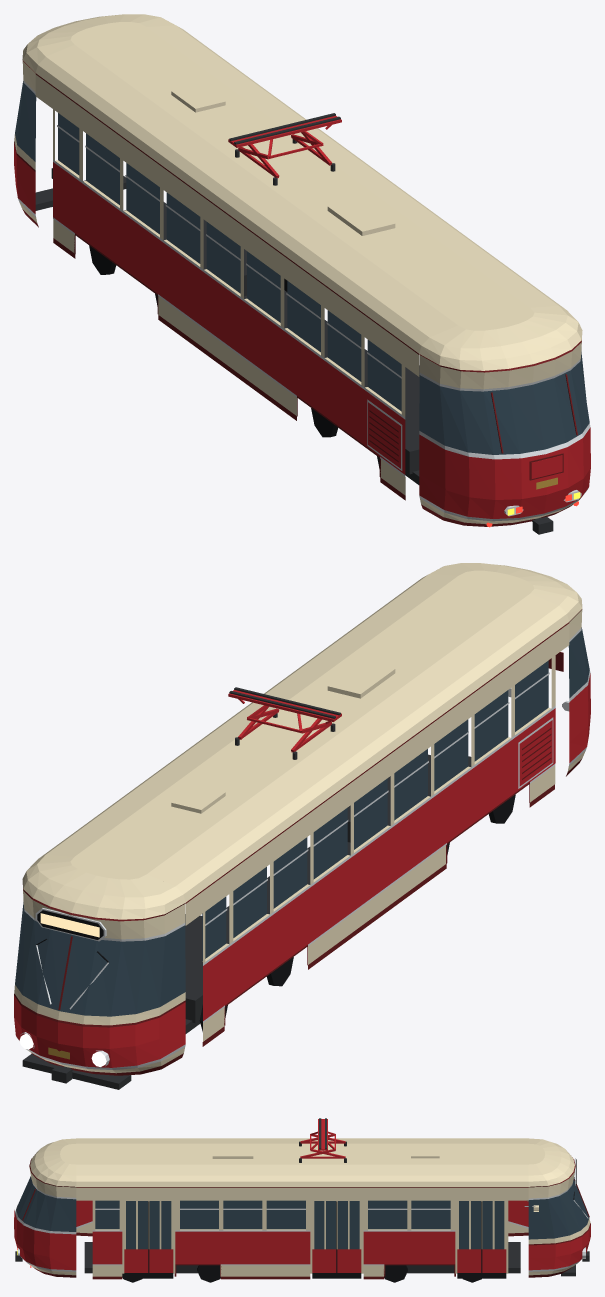
The picture shows the model from 3 angles, top to bottom: view 1: azimuth 30°, elevation 25°; view 2: azimuth 150°, elevation 25°; view 3: azimuth 270°, elevation 25°; orthographic projection. The views are drawn at different scales.
Parts seen in each view (by area): view 1: t3; view 2: t3; view 3: t3.
Boxes of the visible parts, box(x1,y1,x2,y2) form: t3: box(14, 14, 590, 534); t3: box(14, 563, 590, 1089); t3: box(14, 1118, 590, 1282).
Size of the model in its own units: 2.55 by 3.58 by 14.1.
